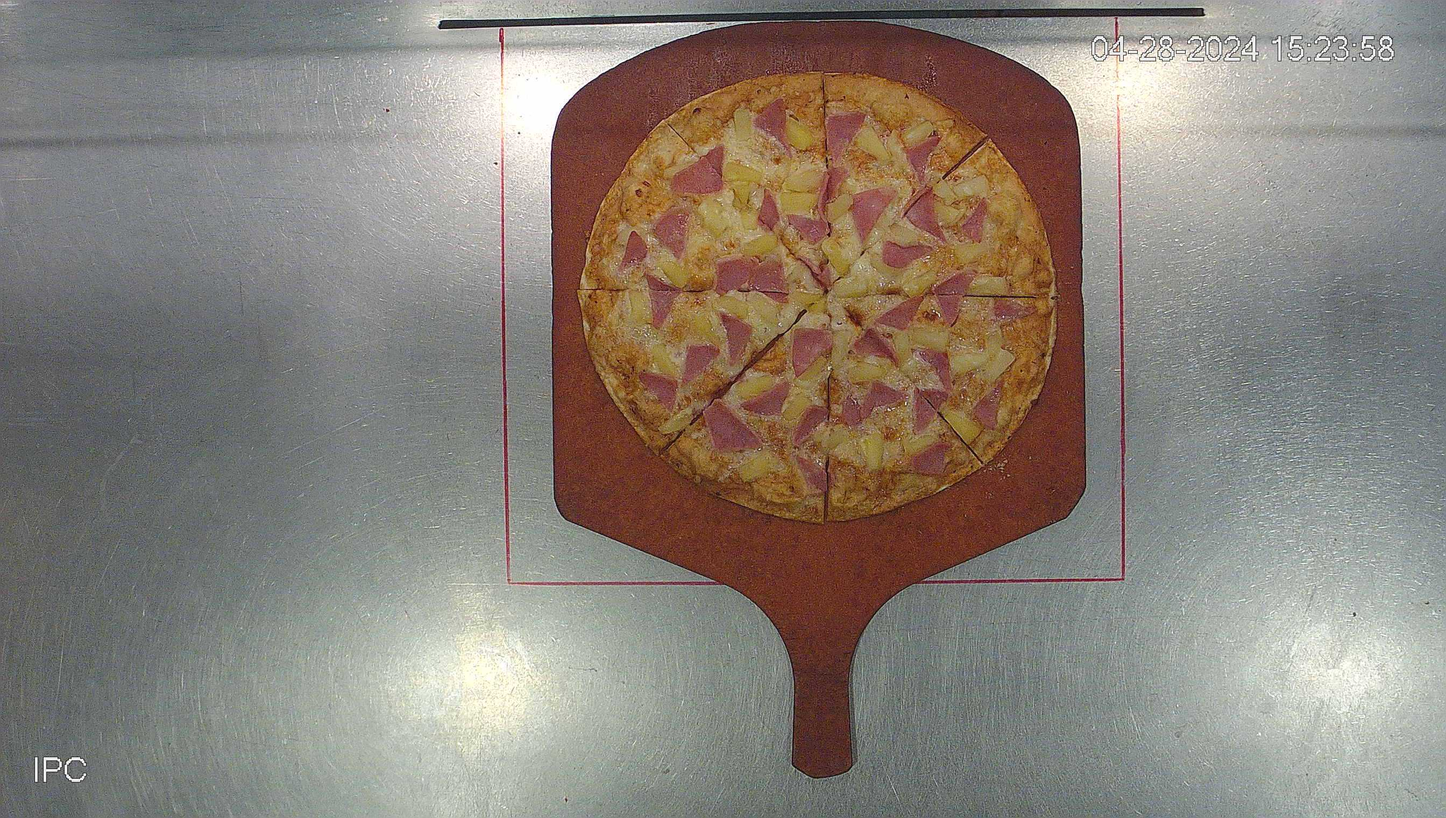manager_choice: (579, 70, 1058, 524)
